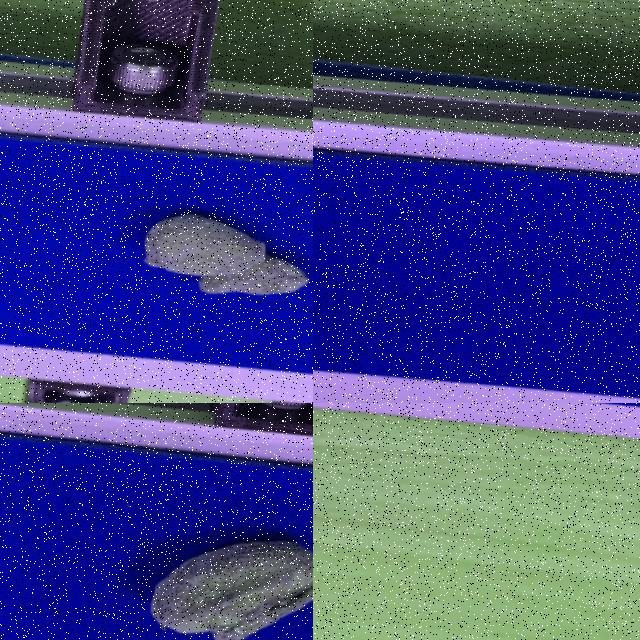Agglomerated_cocoabeans: (33, 162, 312, 339), (55, 503, 312, 639)
